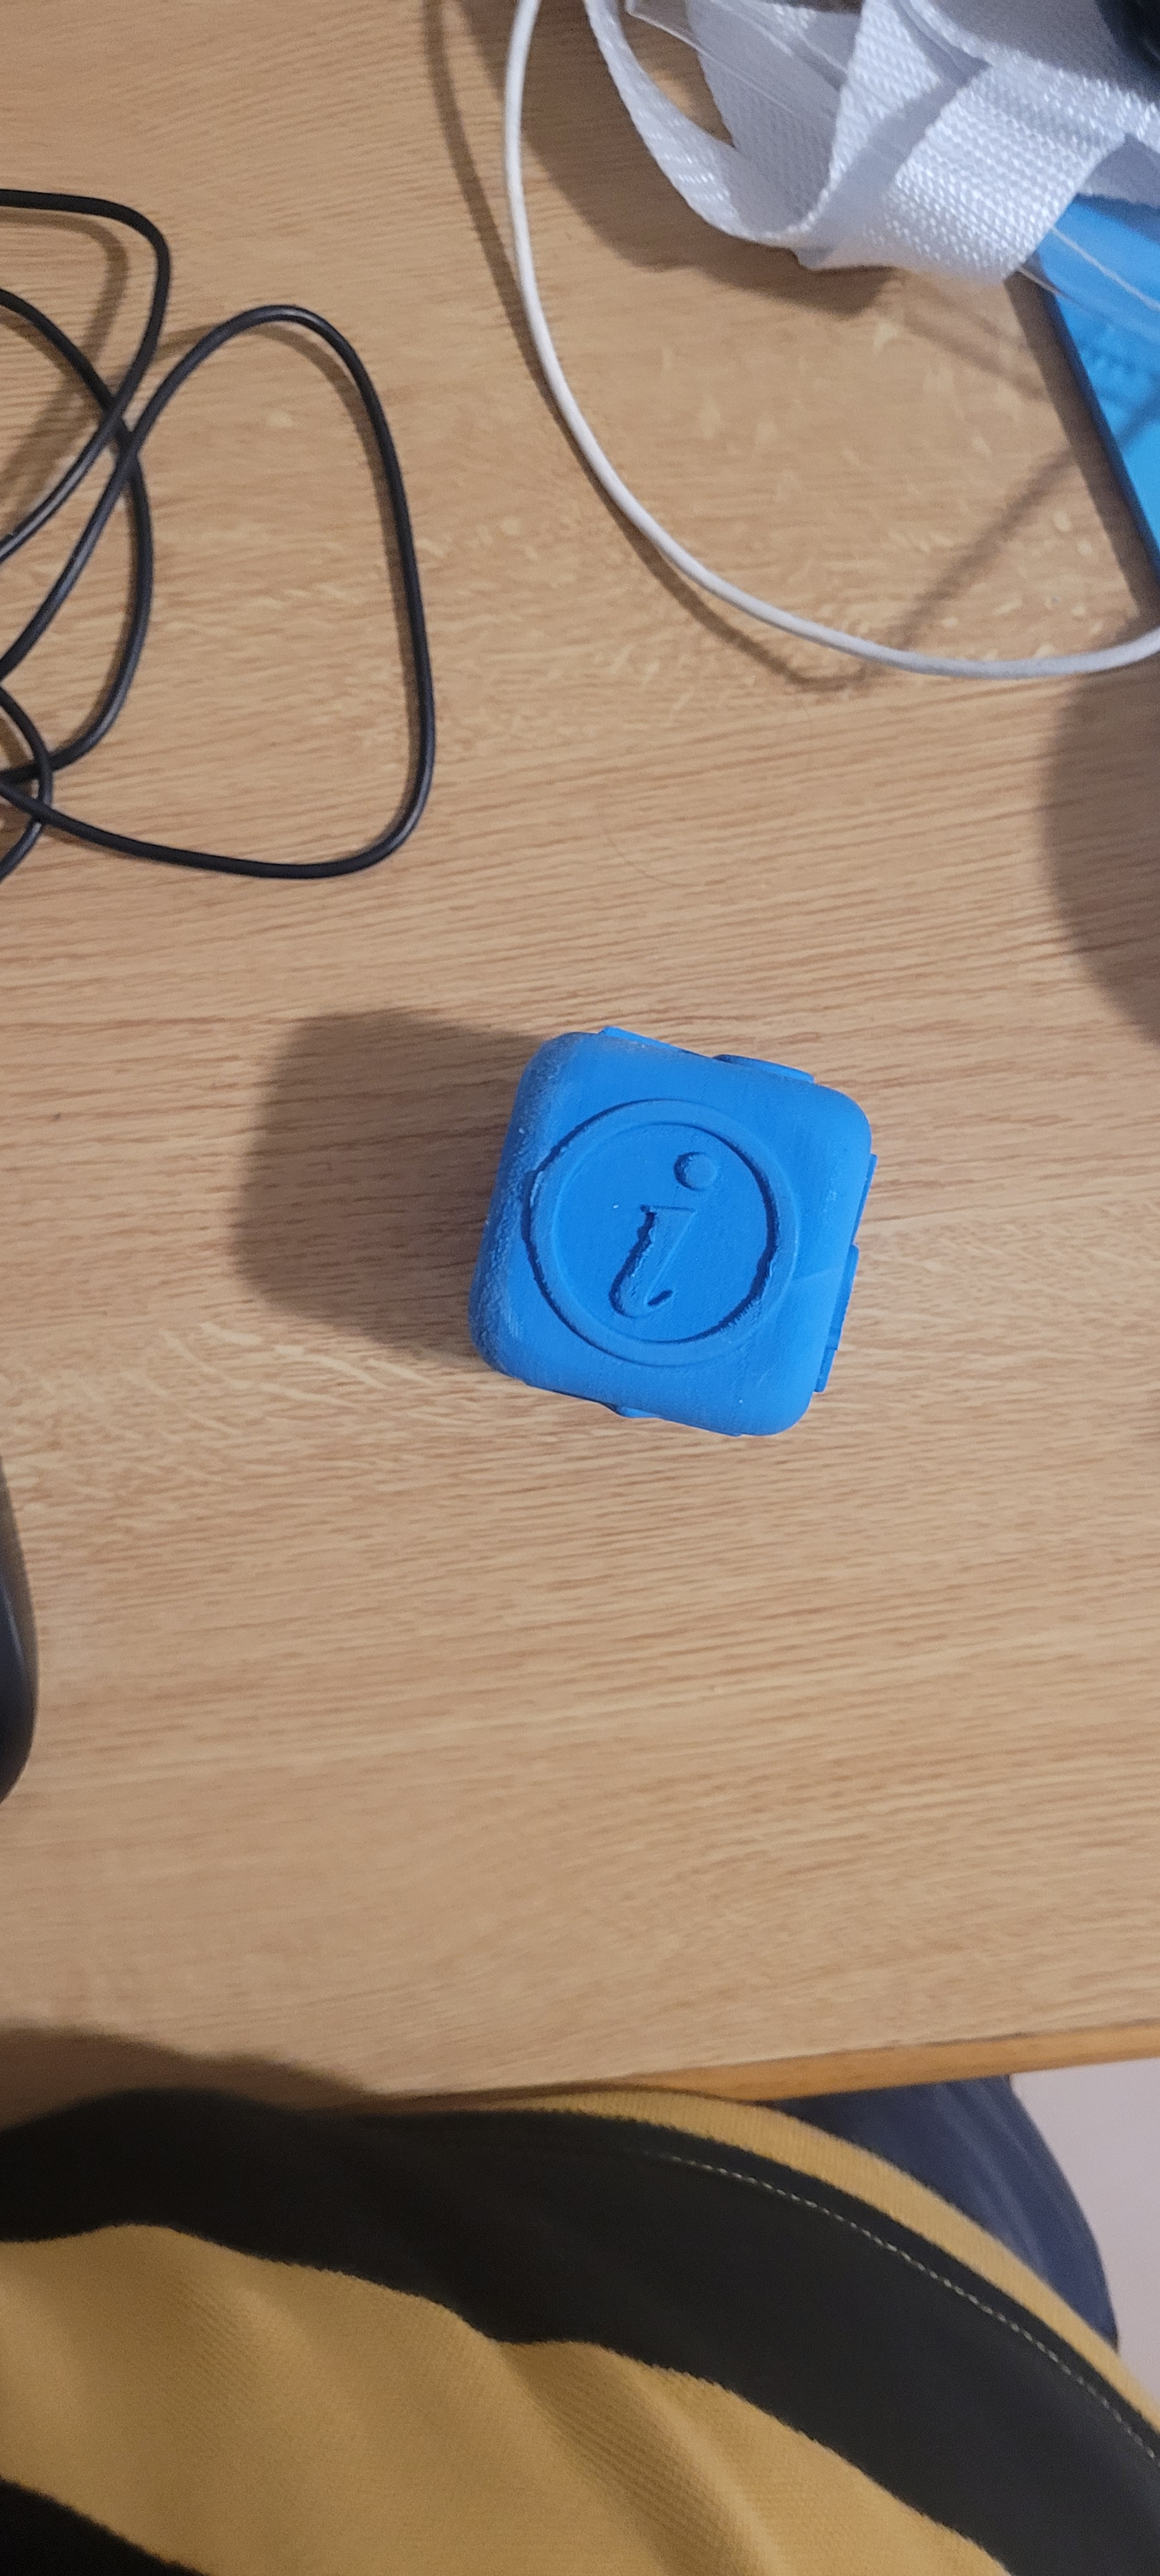Info: (476, 1119, 845, 1341)
